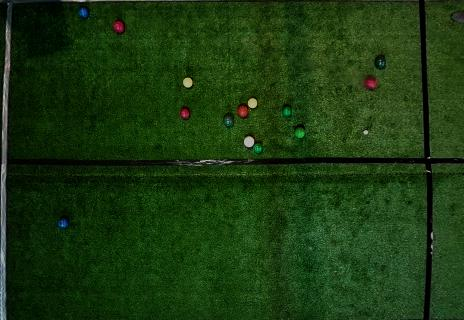blue: (78, 7, 89, 19), (57, 218, 68, 229)
green: (223, 115, 234, 127), (375, 58, 386, 69), (253, 143, 263, 154), (295, 127, 305, 138), (282, 106, 292, 117)
red: (363, 77, 377, 89), (112, 21, 125, 33), (243, 136, 255, 147), (180, 108, 190, 119), (238, 106, 248, 117)
vline: (419, 0, 463, 319), (0, 0, 16, 319)
white: (363, 130, 368, 135)
yellow: (183, 77, 193, 88), (248, 98, 258, 108)
